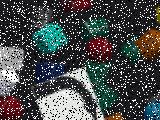Right: (32, 67, 104, 120)
